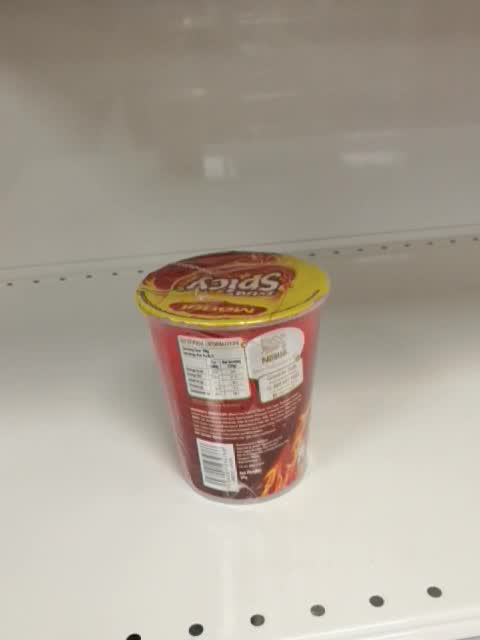maggi: (133, 249, 332, 506)
